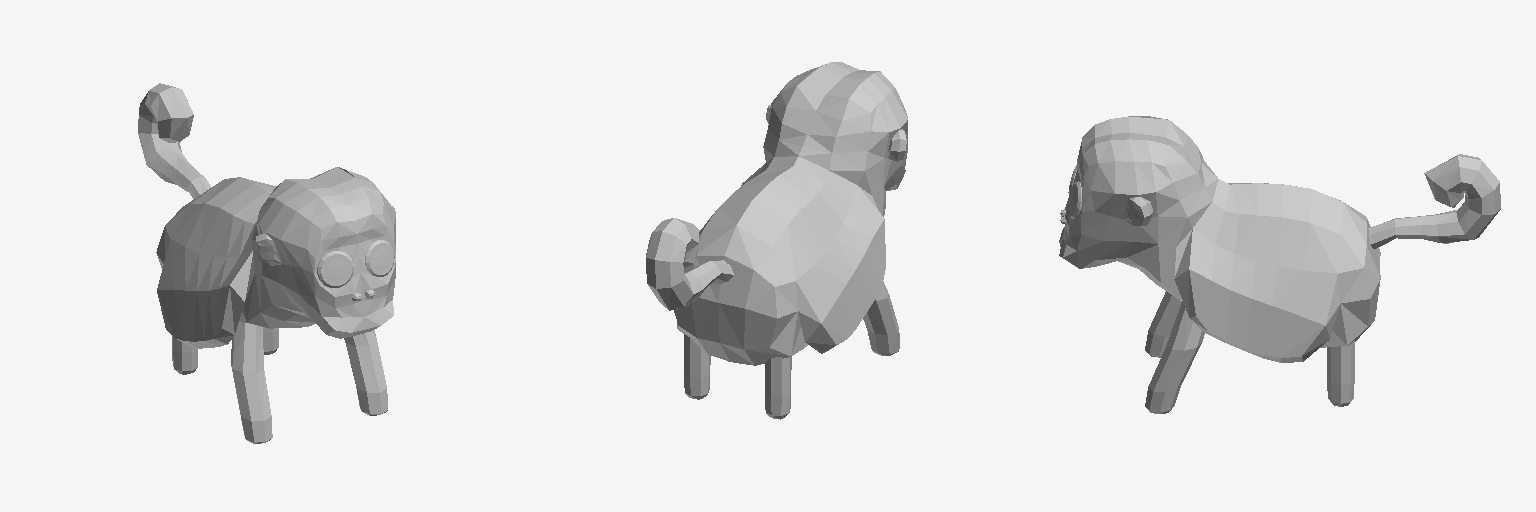
The model's file is Colobus_LOD1.obj.
3 views of the same model, side by side, from view 1: azimuth 30°, elevation 25°; view 2: azimuth 150°, elevation 25°; view 3: azimuth 270°, elevation 25° (orthographic).
Visible parts, largest first — view 1: Mesh_Colobus_LOD1; view 2: Mesh_Colobus_LOD1; view 3: Mesh_Colobus_LOD1.
Part boxes in pixels (x1,y1,x2,y2): Mesh_Colobus_LOD1: (138, 83, 395, 443); Mesh_Colobus_LOD1: (646, 62, 907, 419); Mesh_Colobus_LOD1: (1059, 116, 1500, 413).
Size of the model in its own units: 0.5243 by 0.7986 by 1.25.